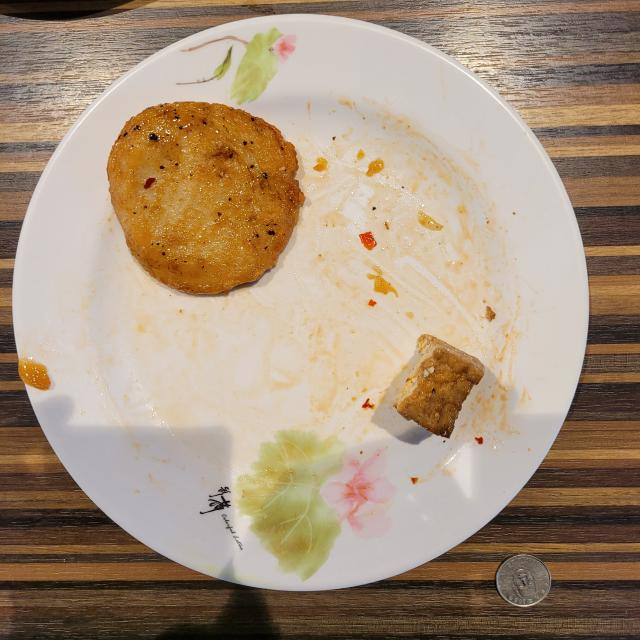coin: (495, 555, 551, 608)
egg tofu: (394, 335, 485, 438)
fish cake: (108, 102, 304, 294)
